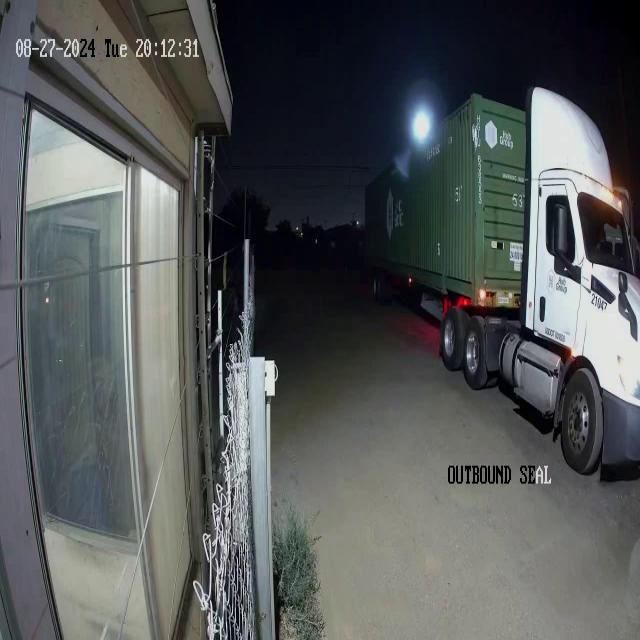CONTAINER: (364, 84, 523, 317)
